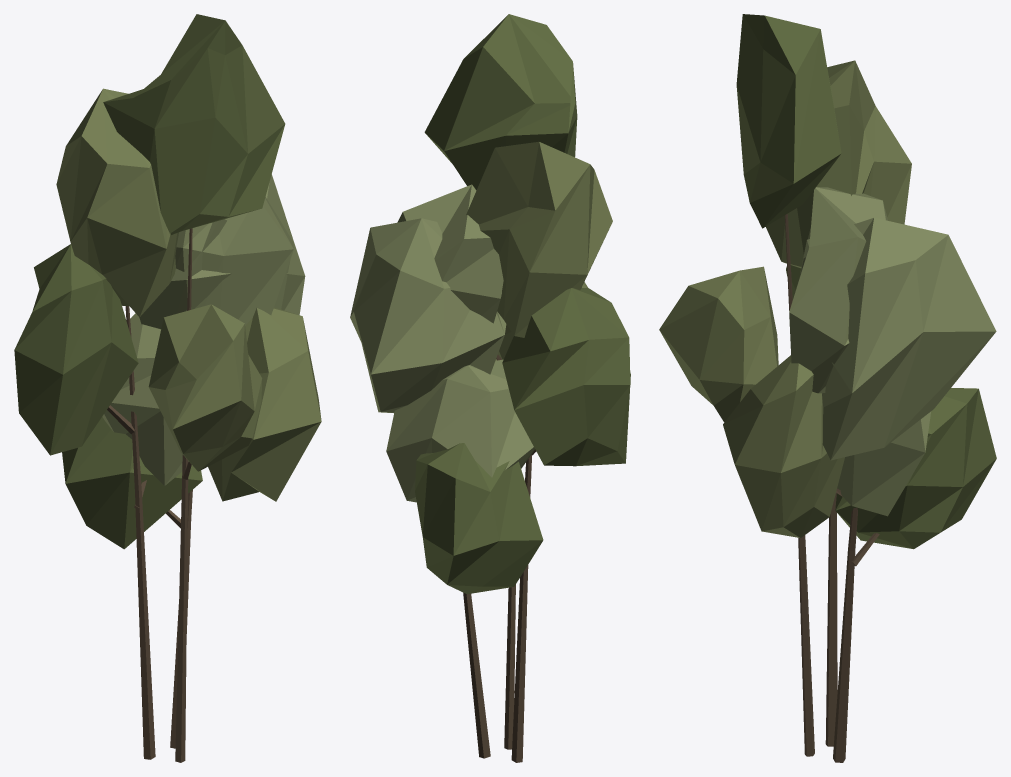
3 views of the same model, side by side, from view 1: azimuth 30°, elevation 25°; view 2: azimuth 150°, elevation 25°; view 3: azimuth 270°, elevation 25° (orthographic). The views are drawn at different scales.
Parts seen in each view (by area): view 1: growth; view 2: growth; view 3: growth.
Boxes of the visible parts, x1,y1,x2,y2 form: growth: [14, 14, 321, 762]; growth: [350, 14, 630, 762]; growth: [659, 14, 996, 762].
Bounding box in the file's own units: 4.18 × 10.24 × 4.17.
